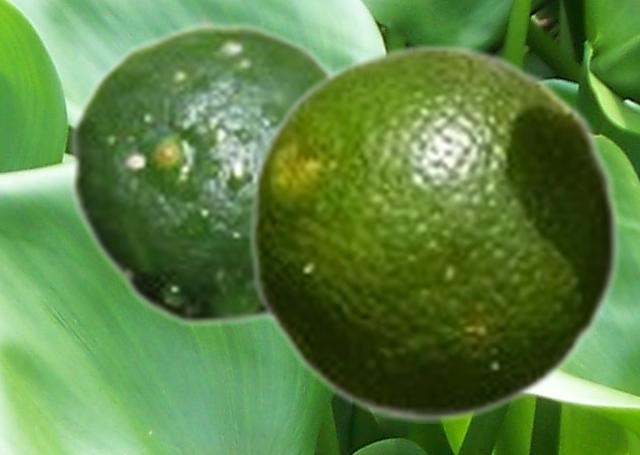calamansi: (246, 42, 622, 422), (68, 21, 333, 328)
